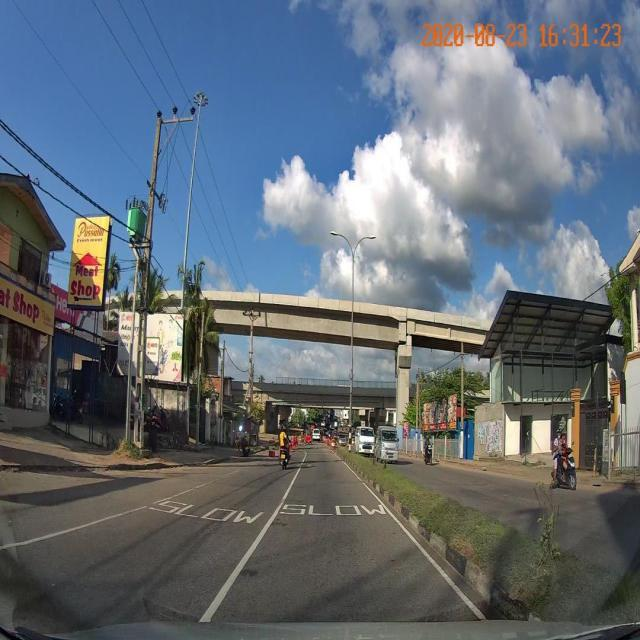Liniya 1: (343, 460, 490, 620), (2, 471, 236, 552), (197, 468, 302, 623)
SLOW: (146, 500, 265, 524), (279, 504, 386, 515)
